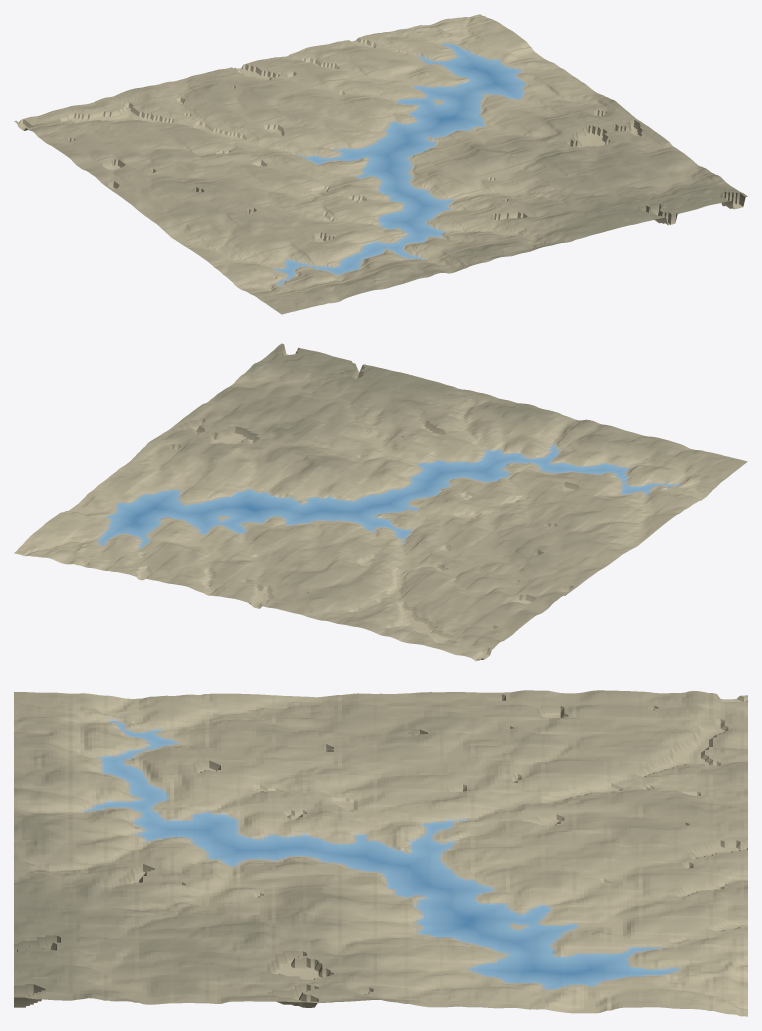
The model's file is lake_wallenpaupack_pa.glb.
3 renders of one model, top to bottom at view 1: azimuth 30°, elevation 25°; view 2: azimuth 150°, elevation 25°; view 3: azimuth 270°, elevation 25°, orthographic. The views are drawn at different scales.
Parts seen in each view (by area): view 1: terrain, water; view 2: terrain, water; view 3: terrain, water.
Boxes of the visible parts, x1,y1,x2,y2 form: terrain: (14, 14, 747, 314); water: (276, 43, 525, 285); terrain: (14, 343, 747, 661); water: (99, 447, 678, 546); terrain: (14, 690, 747, 1016); water: (92, 721, 677, 988).
Bounding box in the file's own units: 13752 × 420 × 13680.
